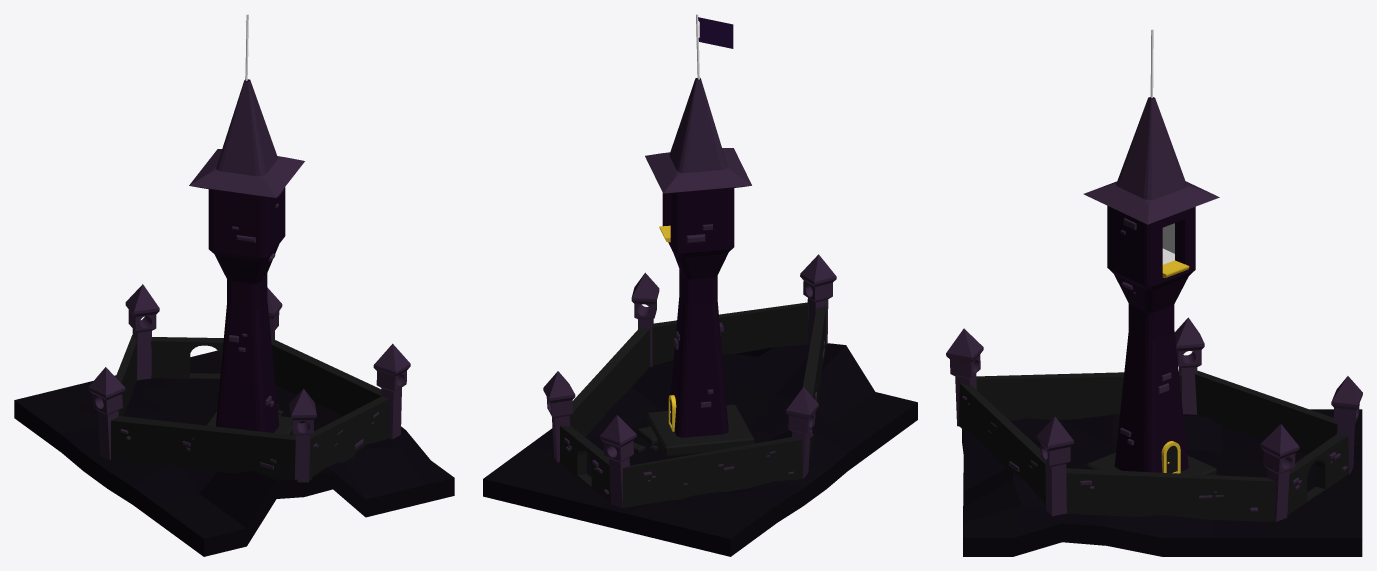
The model's file is ColesonDyck_Castle.gltf.
The picture shows the model from 3 angles, left to right: view 1: azimuth 30°, elevation 25°; view 2: azimuth 150°, elevation 25°; view 3: azimuth 270°, elevation 25°; orthographic projection. The views are drawn at different scales.
Visible parts, largest first — view 1: Plane.001, Cube.015, Cube.008, Cube.005, Cube.009, Cube, Cube.001, Cube.004, Cube.002, Cube.007, Cube.006; view 2: Plane.001, Cube.015, Cube.006, Cube.009, Cube.005, Cube.011, Cube, Cube.001, Cube.007, Cube.008, Cube.003, Cube.002 (+2 smaller); view 3: Plane.001, Cube.015, Cube.005, Cube.008, Cube.006, Cube.009, Cube, Cube.004, Cube.003, Cube.002, Cube.007, Cube.001 (+1 smaller).
Part boxes in pixels (bbox=[...]): Plane.001: bbox=[14, 350, 454, 556]; Cube.015: bbox=[189, 79, 304, 432]; Cube.008: bbox=[111, 416, 295, 479]; Cube.005: bbox=[271, 339, 381, 415]; Cube.009: bbox=[309, 396, 389, 480]; Cube: bbox=[150, 337, 223, 379]; Cube.001: bbox=[125, 284, 159, 380]; Cube.004: bbox=[373, 343, 410, 439]; Cube.002: bbox=[88, 367, 125, 459]; Cube.007: bbox=[289, 388, 316, 482]; Cube.006: bbox=[115, 335, 136, 416]; Plane.001: bbox=[483, 343, 917, 556]; Cube.015: bbox=[645, 78, 751, 437]; Cube.006: bbox=[622, 437, 802, 508]; Cube.009: bbox=[652, 302, 808, 365]; Cube.005: bbox=[569, 328, 649, 436]; Cube.011: bbox=[646, 404, 754, 456]; Cube: bbox=[559, 426, 610, 502]; Cube.001: bbox=[599, 415, 636, 508]; Cube.007: bbox=[800, 254, 836, 346]; Cube.008: bbox=[802, 305, 826, 460]; Cube.003: bbox=[543, 371, 575, 462]; Cube.002: bbox=[786, 387, 818, 478]; Plane.001: bbox=[962, 409, 1362, 556]; Cube.015: bbox=[1083, 97, 1219, 472]; Cube.005: bbox=[1065, 468, 1275, 521]; Cube.008: bbox=[976, 371, 1181, 420]; Cube.006: bbox=[1195, 370, 1337, 454]; Cube.009: bbox=[958, 383, 1045, 504]; Cube: bbox=[1287, 434, 1348, 515]; Cube.004: bbox=[1037, 416, 1073, 516]; Cube.003: bbox=[1260, 424, 1299, 521]; Cube.002: bbox=[1174, 317, 1204, 414]; Cube.007: bbox=[946, 328, 983, 426]; Cube.001: bbox=[1331, 376, 1362, 473].
Size of the model in its own units: 165 by 277 by 221.
